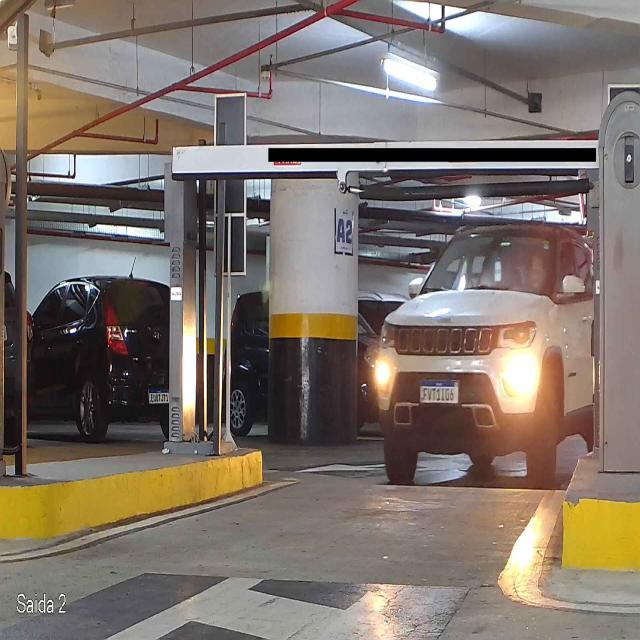mercosul_plate: (418, 379, 462, 405)
